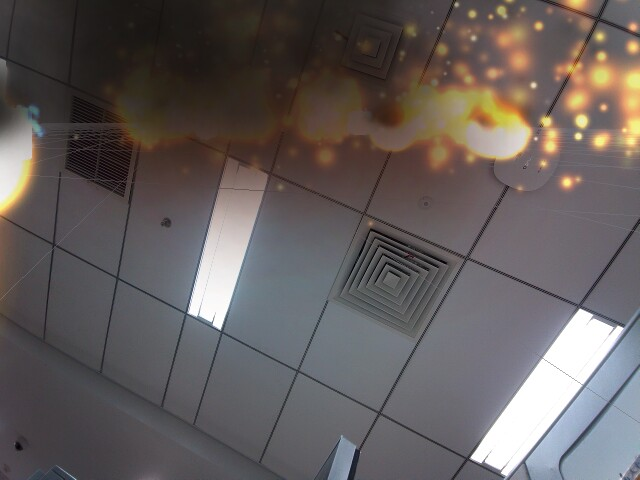fire: (470, 106, 530, 164), (0, 133, 35, 215), (368, 101, 418, 152)
